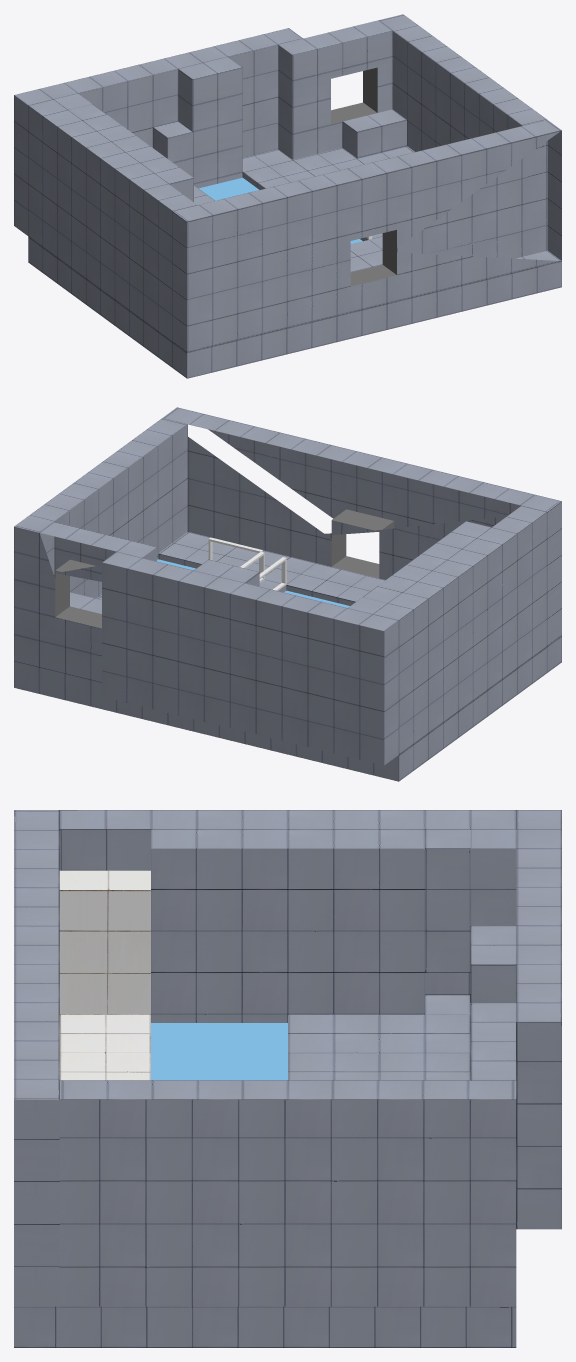
Rendered from portal5.obj.
3 renders of one model, top to bottom at view 1: azimuth 30°, elevation 25°; view 2: azimuth 150°, elevation 25°; view 3: azimuth 270°, elevation 25°, orthographic. The views are drawn at different scales.
Parts seen in each view (by area): view 1: pCube31, pCube9, pCube28, pCube14, pCube15, pCube32, pCube11, pCube23, pCube8, pasted__pCube22, pasted__pasted__pCube21, pCube27; view 2: pCube14, pCube31, pCube9, pCube15, pCube28, pCube32, pCube23, pCube8, pCube11, pasted__pCube22; view 3: pCube15, pCube8, pCube31, pCube28, pCube14, pCube9, partBc2, pCube23, pCube27, pCube24, partBc1, pCube10 (+2 smaller).
Boxes of the visible parts, x1,y1,x2,y2 form: pCube31: (172,120,561,352); pCube9: (28,99,197,341); pCube28: (28,236,561,378); pCube14: (14,28,302,235); pCube15: (379,14,547,250); pCube32: (278,20,392,159); pCube11: (178,57,242,188); pCube23: (194,146,496,272); pCube8: (82,114,193,201); pasted__pCube22: (342,109,406,158); pasted__pasted__pCube21: (153,121,192,176); pCube27: (199,177,362,243); pCube14: (102,551,398,765); pCube31: (162,407,561,645); pCube9: (373,506,547,754); pCube15: (14,418,187,666); pCube28: (14,636,561,781); pCube32: (39,522,156,682); pCube23: (97,532,385,605); pCube8: (378,521,491,592); pCube11: (194,559,259,586); pasted__pCube22: (70,592,101,613); pCube15: (59,1080,516,1306); pCube8: (151,829,424,1022); pCube31: (14,810,59,1306); pCube28: (14,1306,516,1347); pCube14: (516,810,561,1229); pCube9: (59,810,516,994); partBc2: (59,870,150,1014); pCube23: (288,995,470,1080); pCube27: (151,1023,287,1080); pCube24: (425,829,470,972); partBc1: (59,1014,150,1080); pCube10: (470,829,516,925).
Bounding box in the file's own units: 15 × 6 × 12.
